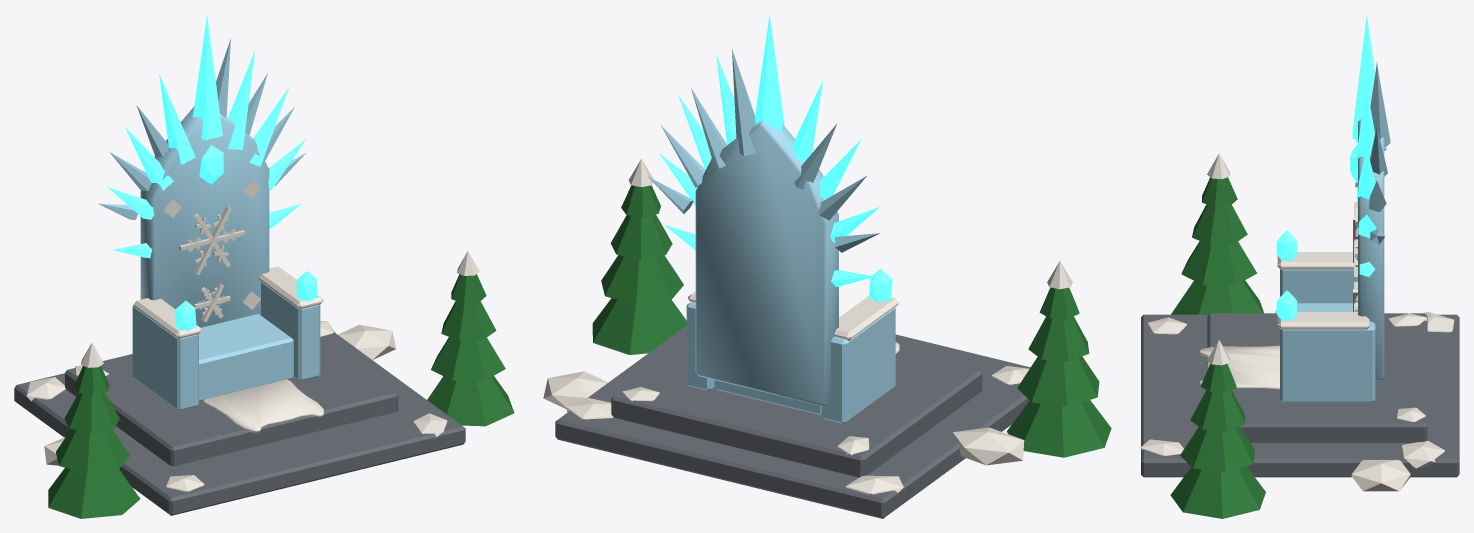
The model's file is low-poly-ice-throne.glb.
3 renders of one model, left to right at view 1: azimuth 30°, elevation 25°; view 2: azimuth 150°, elevation 25°; view 3: azimuth 270°, elevation 25°, orthographic. The views are drawn at different scales.
Visible parts, largest first — view 1: Step_Lower, Back, Step_Upper, Seat, Arm_L, FurRug, Pine_L_0, Arm_R, Pine_R_0, Pine_L_1, Pine_R_1, Spike_0_R (+14 smaller); view 2: Back, Step_Lower, Step_Upper, Arm_L, Pine_L_0, Pine_R_0, Pine_R_1, Pine_L_1, Pine_R_2, SnowDrift_6, Pine_L_2, Spike_0_R (+17 smaller); view 3: Step_Lower, Step_Upper, Arm_R, Pine_R_0, Back, Pine_R_1, Pine_L_1, Arm_L, Pine_L_0, FurRug, Pine_R_2, Pine_L_2 (+18 smaller).
Part boxes in pixels (<box>): Step_Lower: <box>14,332,465,515</box>; Back: <box>140,106,269,327</box>; Step_Upper: <box>65,338,397,466</box>; Seat: <box>199,314,293,401</box>; Arm_L: <box>132,305,198,410</box>; FurRug: <box>202,379,323,432</box>; Pine_L_0: <box>48,467,140,518</box>; Arm_R: <box>261,281,320,380</box>; Pine_R_0: <box>427,376,514,426</box>; Pine_L_1: <box>56,429,129,473</box>; Pine_R_1: <box>431,337,505,380</box>; Spike_0_R: <box>193,14,222,140</box>; Back: <box>695,121,838,406</box>; Step_Lower: <box>555,325,1030,518</box>; Step_Upper: <box>611,343,982,477</box>; Arm_L: <box>821,307,895,423</box>; Pine_L_0: <box>1006,400,1111,457</box>; Pine_R_0: <box>592,298,686,354</box>; Pine_R_1: <box>601,255,683,304</box>; Pine_L_1: <box>1017,356,1099,406</box>; Pine_R_2: <box>610,214,672,259</box>; SnowDrift_6: <box>952,427,1024,465</box>; Pine_L_2: <box>1028,316,1089,361</box>; Spike_0_R: <box>755,15,784,132</box>; Step_Lower: <box>1141,314,1459,477</box>; Step_Upper: <box>1207,313,1427,442</box>; Arm_R: <box>1280,321,1375,402</box>; Pine_R_0: <box>1170,466,1265,518</box>; Back: <box>1358,119,1384,380</box>; Pine_R_1: <box>1180,426,1254,472</box>; Pine_L_1: <box>1181,241,1257,285</box>; Arm_L: <box>1280,269,1357,303</box>; Pine_L_0: <box>1171,280,1263,314</box>; FurRug: <box>1199,345,1279,389</box>; Pine_R_2: <box>1190,390,1245,431</box>; Pine_L_2: <box>1192,204,1247,244</box>.
Bounding box in the file's own units: 18.59 × 14.9 × 11.01.
